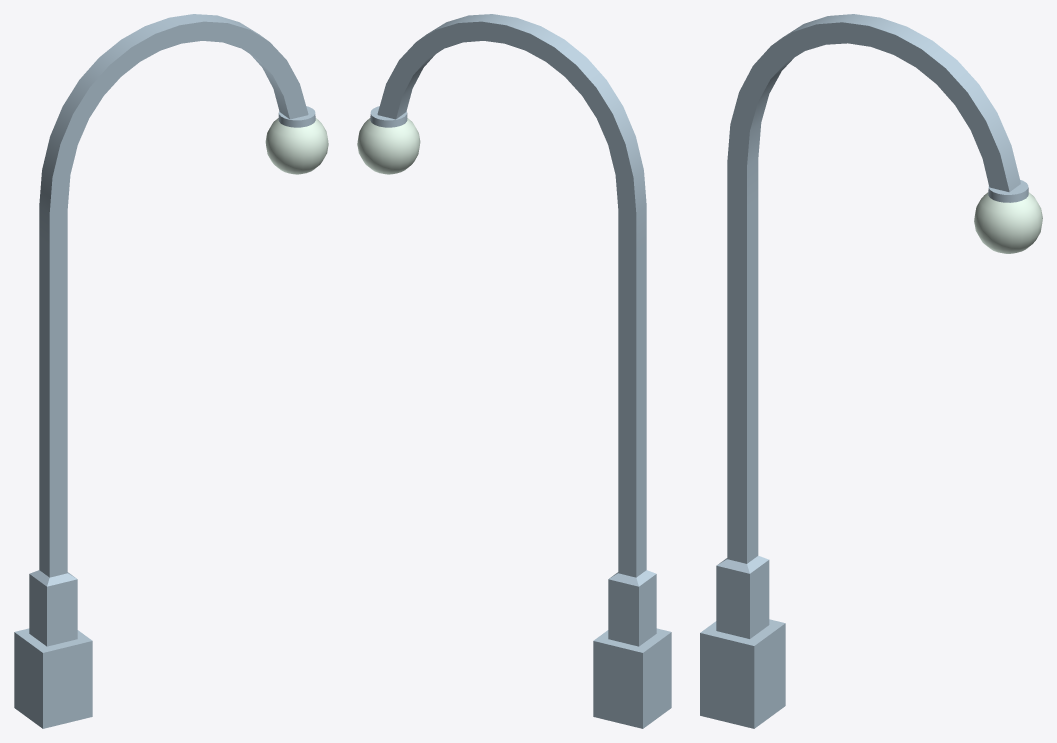
File: streetlight_04.fbx
3 renders of one model, left to right at view 1: azimuth 30°, elevation 25°; view 2: azimuth 150°, elevation 25°; view 3: azimuth 330°, elevation 25°, orthographic. The views are drawn at different scales.
Visible parts, largest first — view 1: streetlight_04, pSphere12; view 2: streetlight_04, pSphere12; view 3: streetlight_04, pSphere12.
Boxes of the visible parts, x1,y1,x2,y2 form: streetlight_04: (14, 14, 308, 728); pSphere12: (265, 106, 328, 174); streetlight_04: (377, 14, 671, 728); pSphere12: (357, 106, 420, 174); streetlight_04: (700, 14, 1020, 728); pSphere12: (974, 180, 1042, 253).
Bounding box in the file's own units: 3.2 × 6.83 × 0.5938.
